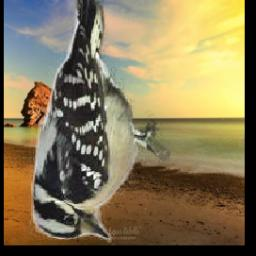Woodpecker: (27, 0, 170, 245)
